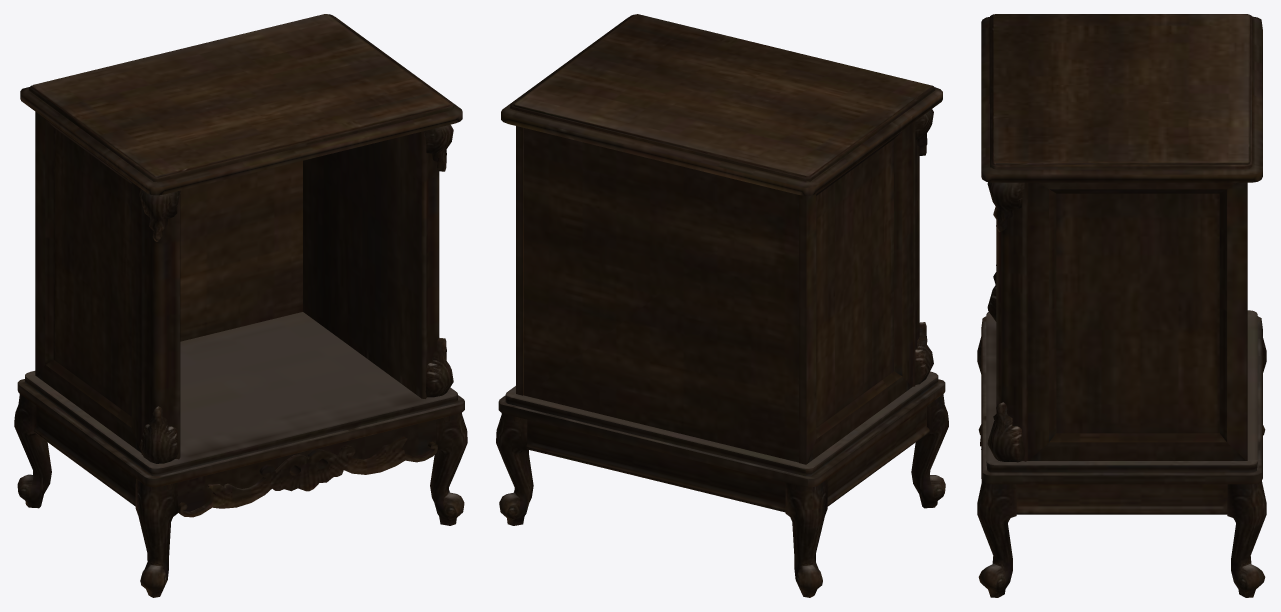
The model's file is nightstand.glb.
3 views of the same model, side by side, from view 1: azimuth 30°, elevation 25°; view 2: azimuth 150°, elevation 25°; view 3: azimuth 270°, elevation 25° (orthographic). The views are drawn at different scales.
Parts seen in each view (by area): view 1: ClassicNightstand_01; view 2: ClassicNightstand_01; view 3: ClassicNightstand_01.
Part boxes in pixels (x1,y1,x2,y2): ClassicNightstand_01: [14, 14, 467, 597]; ClassicNightstand_01: [496, 14, 948, 597]; ClassicNightstand_01: [977, 14, 1266, 597].
Bounding box in the file's own units: 0.5678 × 0.7 × 0.4242.
1 material, 1 textured.
